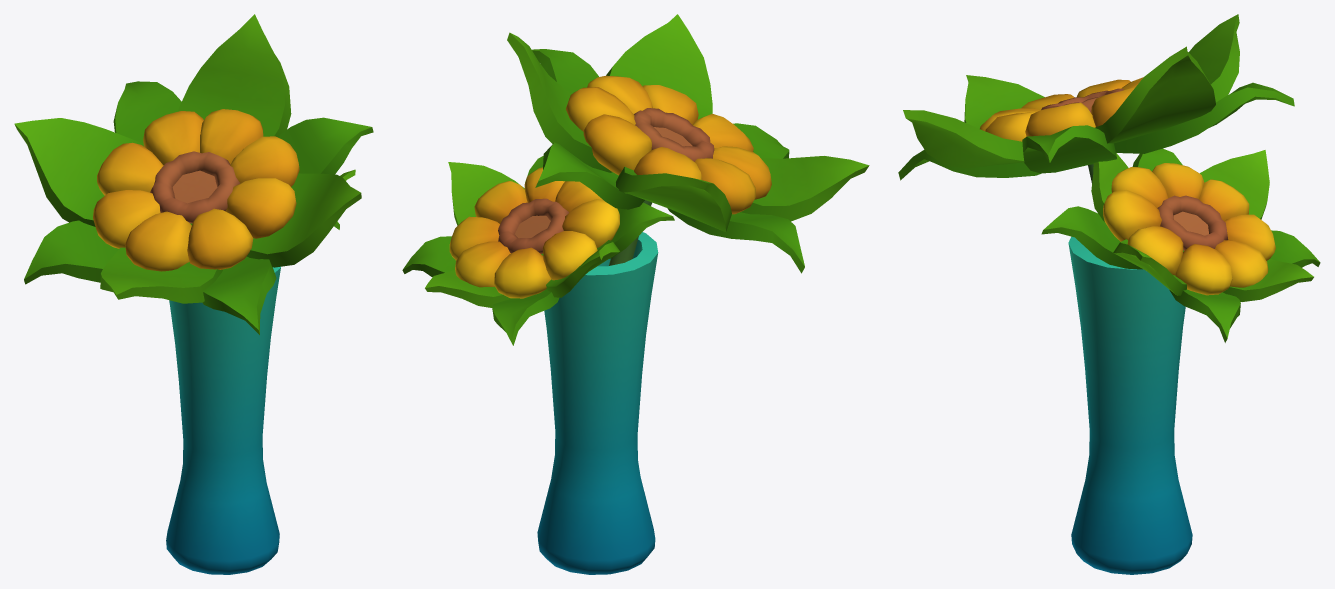
File: Flower01.fbx
3 views of the same model, side by side, from view 1: azimuth 30°, elevation 25°; view 2: azimuth 150°, elevation 25°; view 3: azimuth 270°, elevation 25° (orthographic). The views are drawn at different scales.
Parts seen in each view (by area): view 1: Flower01; view 2: Flower01; view 3: Flower01.
Part boxes in pixels (<box>): Flower01: <box>14,14,373,574</box>; Flower01: <box>402,14,869,574</box>; Flower01: <box>898,14,1320,574</box>.
Size of the model in its own units: 67.15 by 95.12 by 67.92.
